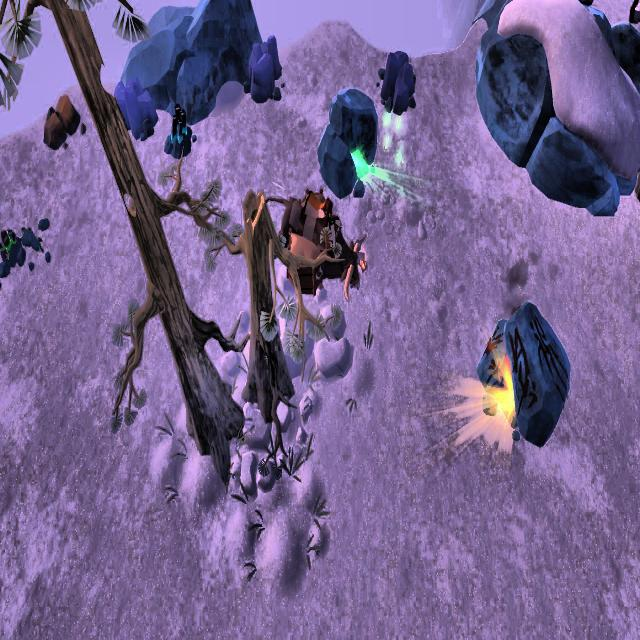ore_t4: (168, 100, 188, 146)
rock_t4: (113, 72, 159, 138), (245, 31, 284, 105), (380, 42, 418, 116)
